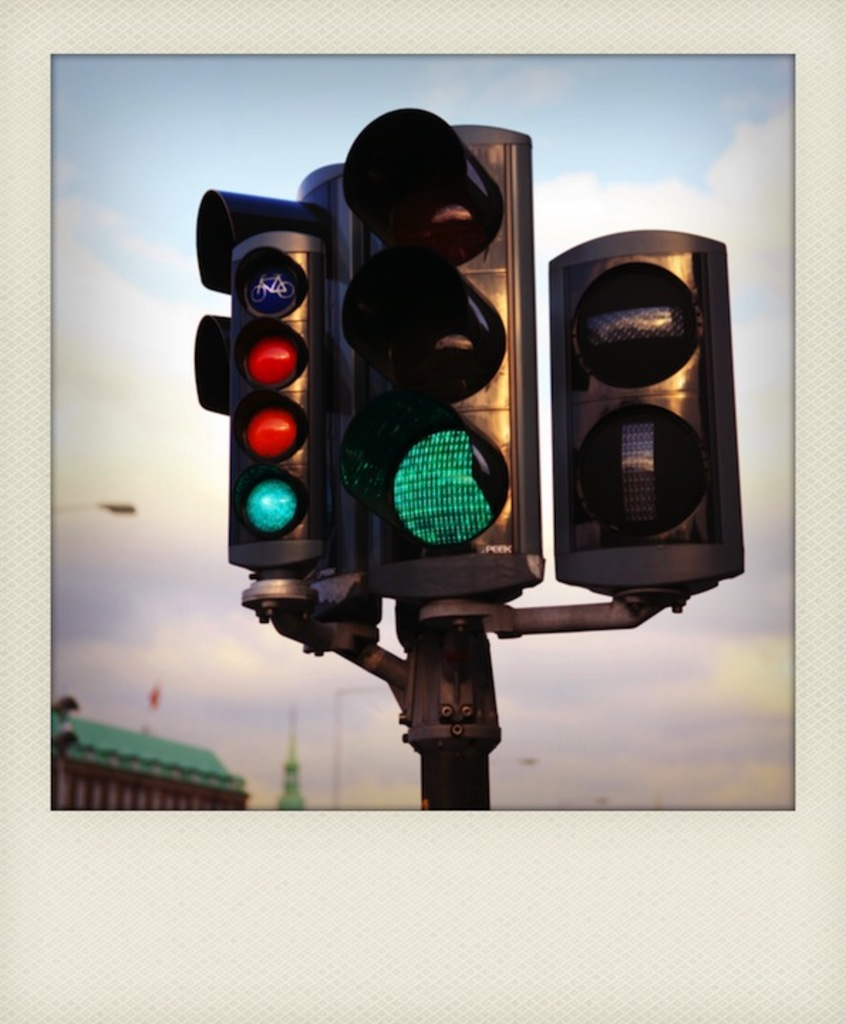green_light: (381, 427, 502, 542), (237, 471, 303, 534)
red_light: (375, 426, 506, 557), (236, 397, 303, 462), (240, 329, 306, 390), (241, 477, 302, 536)
